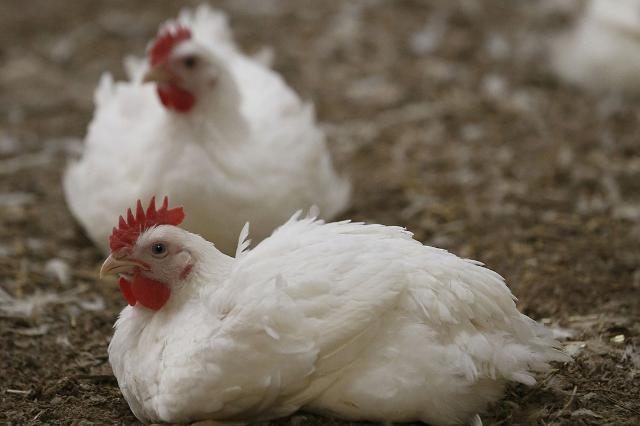Chicken: (99, 196, 573, 426), (63, 3, 353, 257)
